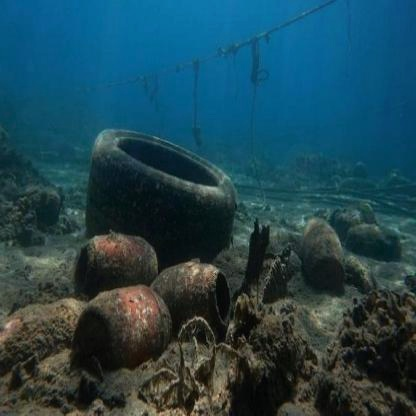metal: (69, 275, 176, 360), (148, 262, 232, 326), (68, 221, 153, 279), (292, 205, 345, 282)
net: (37, 1, 370, 97)
tire: (82, 121, 238, 245)
